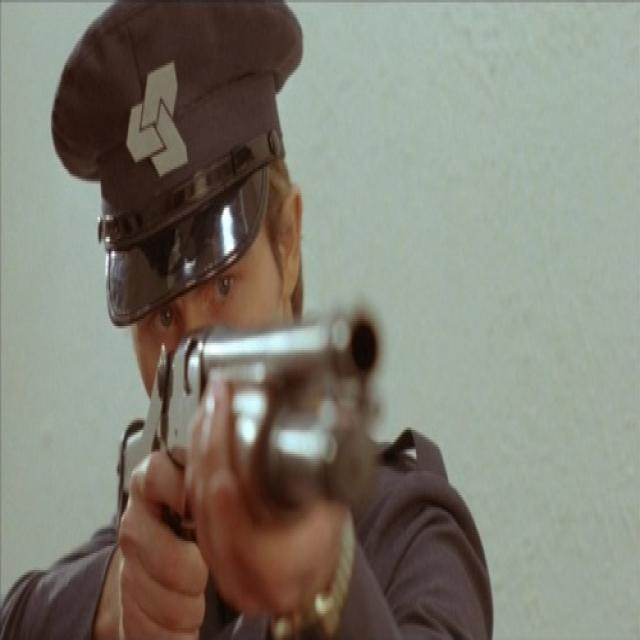rifle: (111, 310, 389, 529)
